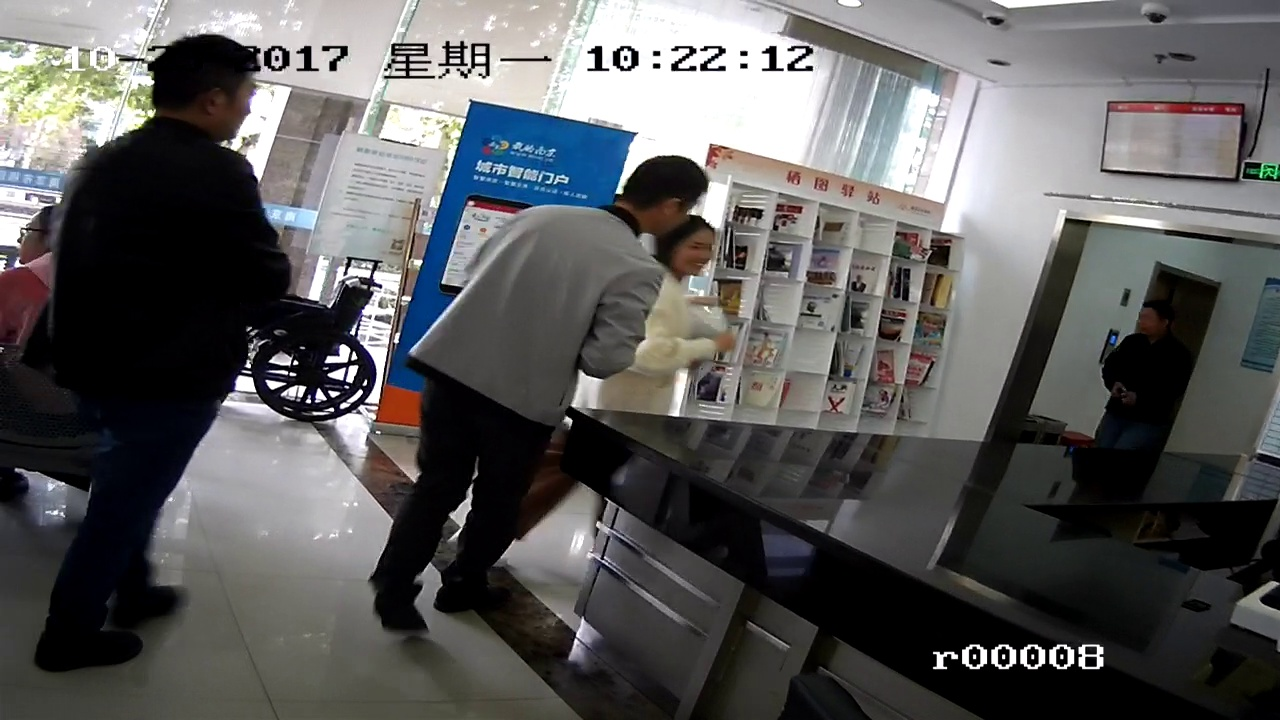billboard: (332, 140, 431, 273)
monitor: (1104, 106, 1245, 178)
person: (81, 52, 264, 680), (598, 154, 717, 240), (1118, 290, 1180, 413), (660, 218, 721, 299)
